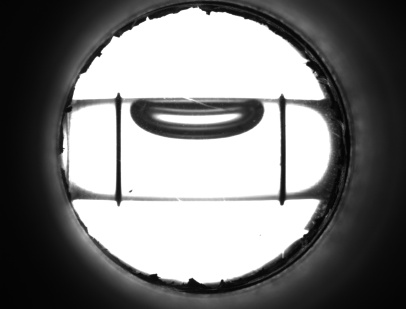line: (109, 114, 128, 183), (274, 119, 291, 186)
